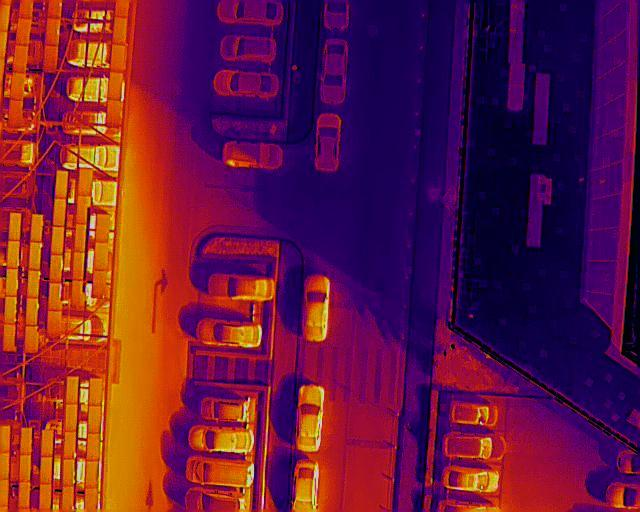Cell: (45, 17, 61, 46), (93, 270, 107, 298), (30, 241, 42, 270), (64, 430, 76, 458), (60, 487, 74, 511)
Cell-Multi: (63, 459, 75, 486)
No-Anomaly: (16, 18, 32, 46), (112, 16, 127, 45), (13, 44, 28, 73), (77, 168, 92, 196), (108, 72, 123, 100), (43, 45, 57, 74), (8, 99, 22, 128), (111, 45, 126, 72), (85, 461, 99, 489), (10, 73, 24, 100), (51, 226, 64, 255), (87, 433, 100, 462), (55, 171, 68, 200), (27, 270, 40, 298), (41, 430, 54, 458), (48, 310, 61, 338), (106, 100, 120, 126), (96, 215, 109, 243), (88, 406, 101, 433), (8, 214, 21, 241), (65, 403, 77, 432), (53, 199, 65, 228), (7, 240, 19, 268), (74, 224, 86, 251), (90, 379, 102, 406), (41, 457, 53, 484), (5, 297, 17, 324), (66, 376, 78, 403), (95, 243, 107, 270), (73, 252, 84, 281), (20, 454, 31, 483), (27, 299, 39, 325), (25, 326, 37, 352), (76, 196, 87, 224), (7, 269, 18, 297), (4, 324, 15, 352), (31, 214, 42, 242), (40, 484, 51, 510), (21, 428, 32, 454), (20, 482, 31, 508)
Unclassified: (49, 283, 62, 311), (51, 255, 63, 283)
